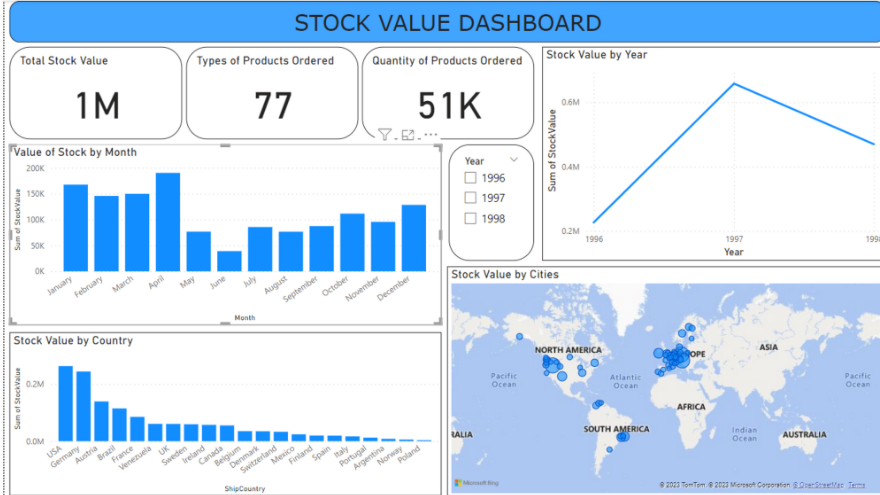

What the dashboard file says about the page in this screenshot:
{"tool":"powerbi","page":{"name":"Page 1","canvas":[1280,720],"ordinal":0},"visuals":[{"type":"lineChart","title":"Stock Value by Year","fields":{"Category":["Orders.OrderDate.Variation.Date Hierarchy.Year"],"Y":["Sum(Orders.StockValue)"]},"box":[777.9,66.3,496.9,308.7],"z":0},{"type":"map","title":"Stock Value by Cities","fields":{"Category":["Orders.ShipCity"],"Size":["Sum(Orders.StockValue)"]},"box":[640.4,383.5,634.4,331.7],"z":1000},{"type":"columnChart","title":"Stock Value by Country","fields":{"Category":["Orders.ShipCountry"],"Y":["Sum(Orders.StockValue)"]},"box":[7.2,478.8,624.7,236.4],"z":2000},{"type":"textbox","box":[7.2,0,1267.5,60.3],"z":3000},{"type":"card","title":"Total Stock Value","fields":{"Values":["Sum(Orders.StockValue)"]},"box":[7.2,66.3,249.6,133.9],"z":4000},{"type":"card","title":"Quantity of Products Ordered","fields":{"Values":["Sum(Orders.Order_Details.Quantity)"]},"box":[517.4,66.3,248.4,133.9],"z":5000},{"type":"card","title":"Types of Products Ordered","fields":{"Values":["Count(Orders.Order_Details.ProductID)"]},"box":[262.9,66.3,248.4,133.9],"z":6000},{"type":"slicer","fields":{"Values":["Orders.OrderDate.Variation.Date Hierarchy.Year"]},"box":[642.8,207.4,123,167.6],"z":7000},{"type":"clusteredColumnChart","title":"Value of Stock by Month","fields":{"Category":["Orders.OrderDate.Variation.Date Hierarchy.Month"],"Y":["Sum(Orders.StockValue)"]},"box":[7.2,207.4,624.7,260.5],"z":8000}]}

Visuals, with their boxes in screenshot pixels (x1, y1, x2, y2), scaled from the page's 1280x720 canvas onto the 880x495 screenshot:
"Stock Value by Year" lineChart: 535, 46, 876, 258
"Stock Value by Cities" map: 440, 264, 876, 492
"Stock Value by Country" columnChart: 5, 329, 434, 492
textbox: 5, 0, 876, 41
"Total Stock Value" card: 5, 46, 177, 138
"Quantity of Products Ordered" card: 356, 46, 526, 138
"Types of Products Ordered" card: 181, 46, 352, 138
slicer - Orders.OrderDate.Variation.Date Hierarchy.Year: 442, 143, 526, 258
"Value of Stock by Month" clusteredColumnChart: 5, 143, 434, 322
